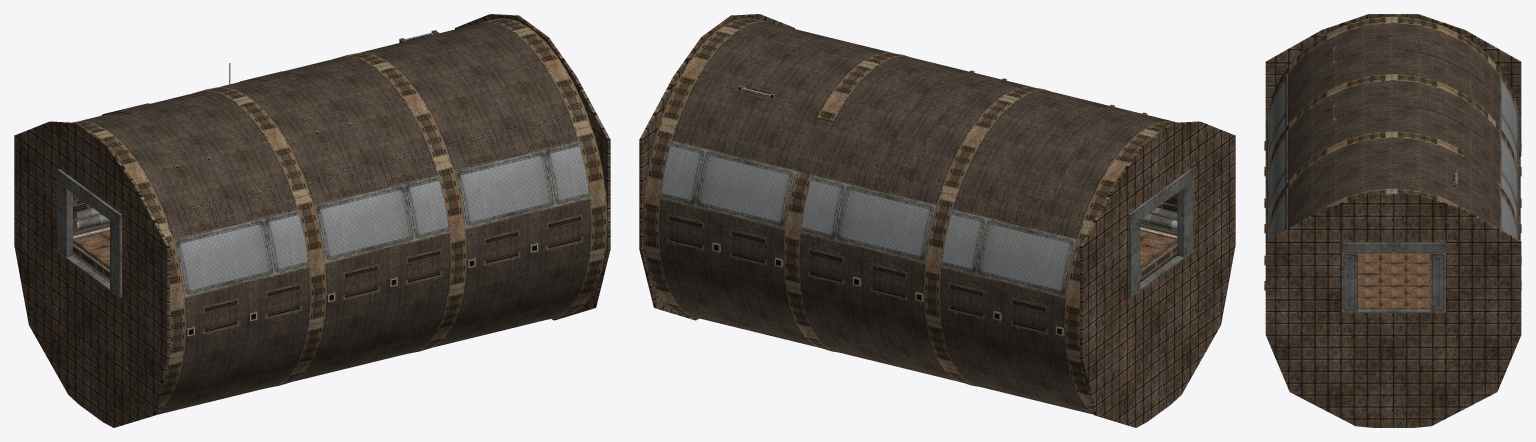
Rendered from sf-rounded-corridor-broken-export.fbx.
3 renders of one model, left to right at view 1: azimuth 30°, elevation 25°; view 2: azimuth 150°, elevation 25°; view 3: azimuth 270°, elevation 25°, orthographic. The views are drawn at different scales.
Visible parts, largest first — view 1: Mesh; view 2: Mesh; view 3: Mesh.
Part boxes in pixels (<box>): Mesh: <box>14,14,610,427</box>; Mesh: <box>639,14,1235,427</box>; Mesh: <box>1264,14,1521,427</box>.
Size of the model in its own units: 1358 by 807 by 807.
